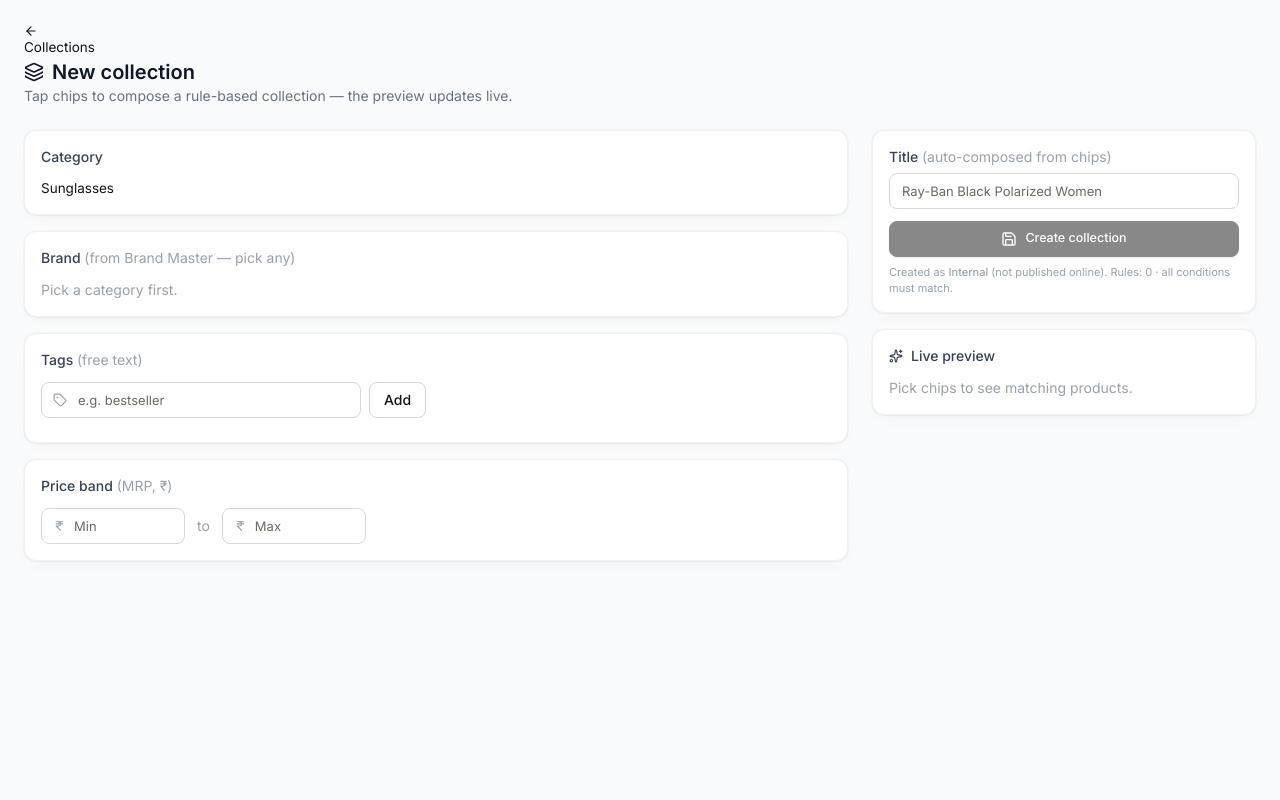
Scenario: New Collection: rules the website cannot read › a readable rule set leaves Create on
Click the button "Sunglasses". click: [78, 188]
box: x1=41 y1=179 x2=114 y2=198
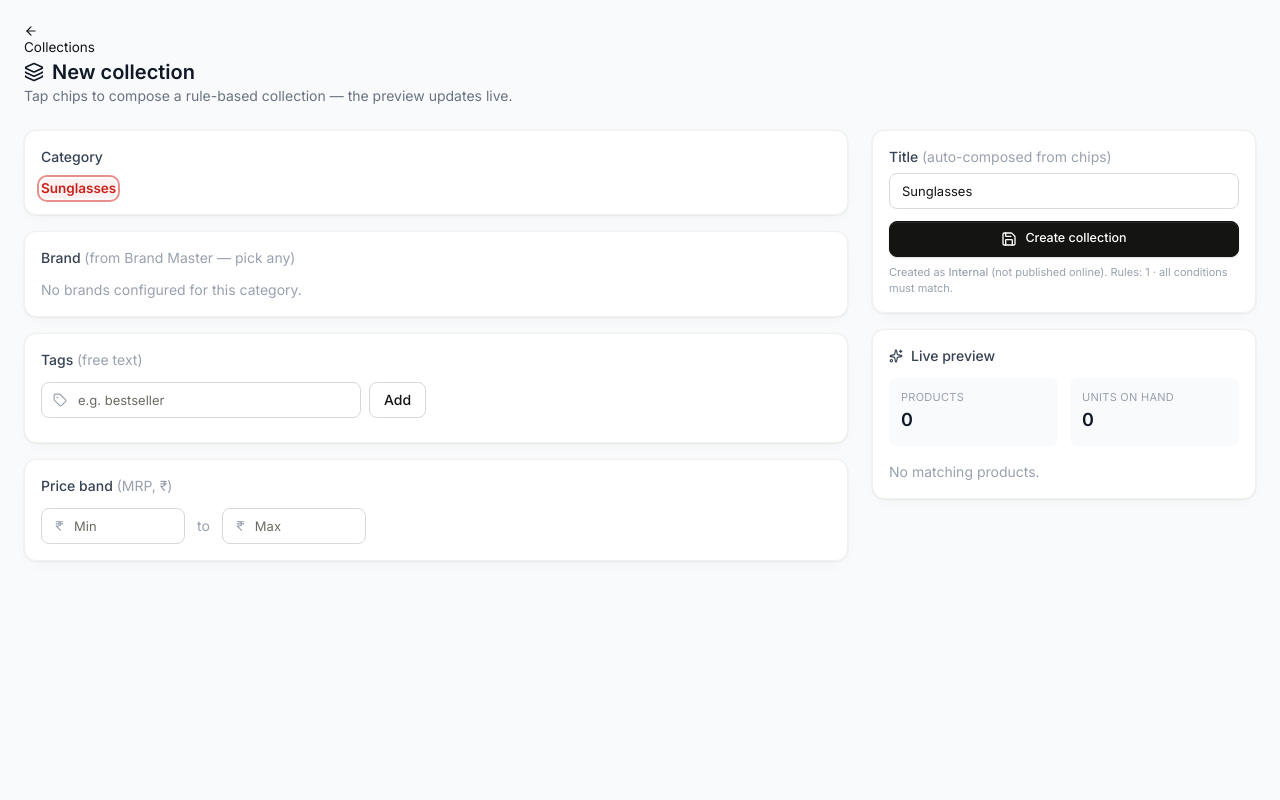
Now the text "Products" is shown, box x1=901 y1=390 x2=964 y2=404
Now the button "Create collection" is enabled, box x1=889 y1=221 x2=1239 y2=257
